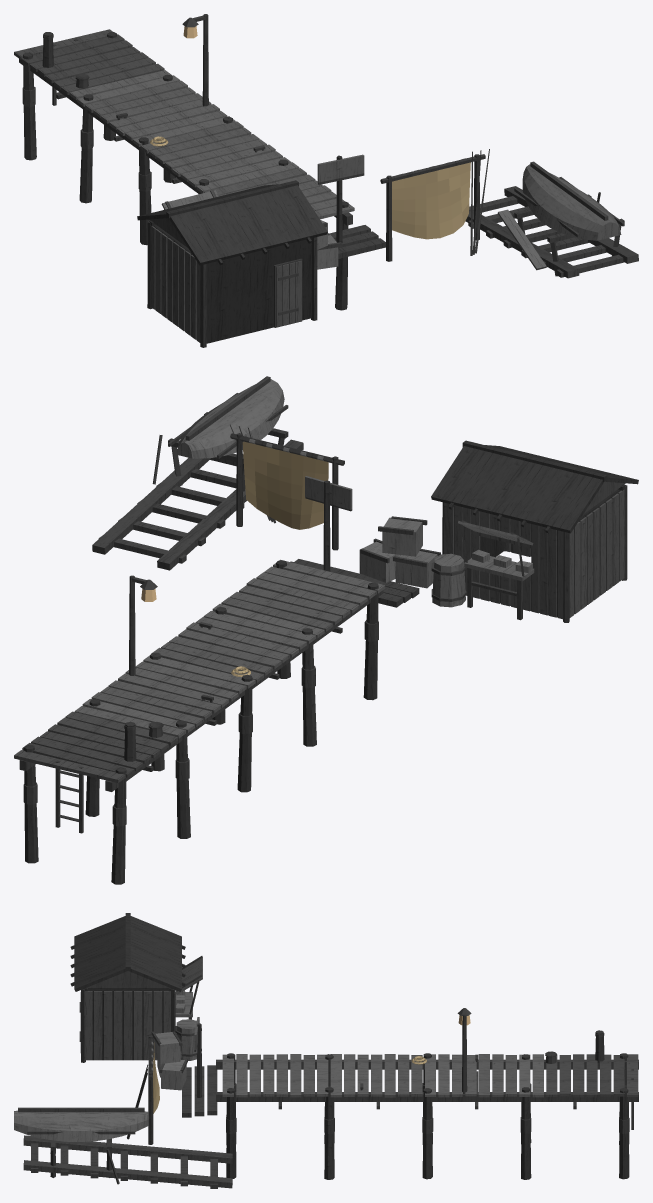
Rendered from river_jetty_and_boatyard.glb.
3 views of the same model, one above another, from view 1: azimuth 30°, elevation 25°; view 2: azimuth 150°, elevation 25°; view 3: azimuth 270°, elevation 25° (orthographic). The views are drawn at different scales.
Parts seen in each view (by area): view 1: shore_1, jetty_0; view 2: shore_1, jetty_0; view 3: shore_1, jetty_0.
Part boxes in pixels (x1,y1,x2,y2): shore_1: [137, 149, 638, 347]; jetty_0: [14, 14, 354, 310]; shore_1: [92, 376, 638, 622]; jetty_0: [14, 559, 385, 884]; shore_1: [14, 913, 232, 1188]; jetty_0: [216, 1008, 638, 1179].
Bounding box in the file's own units: 11.04 × 4.92 × 16.7.
17 materials, 14 textured.
